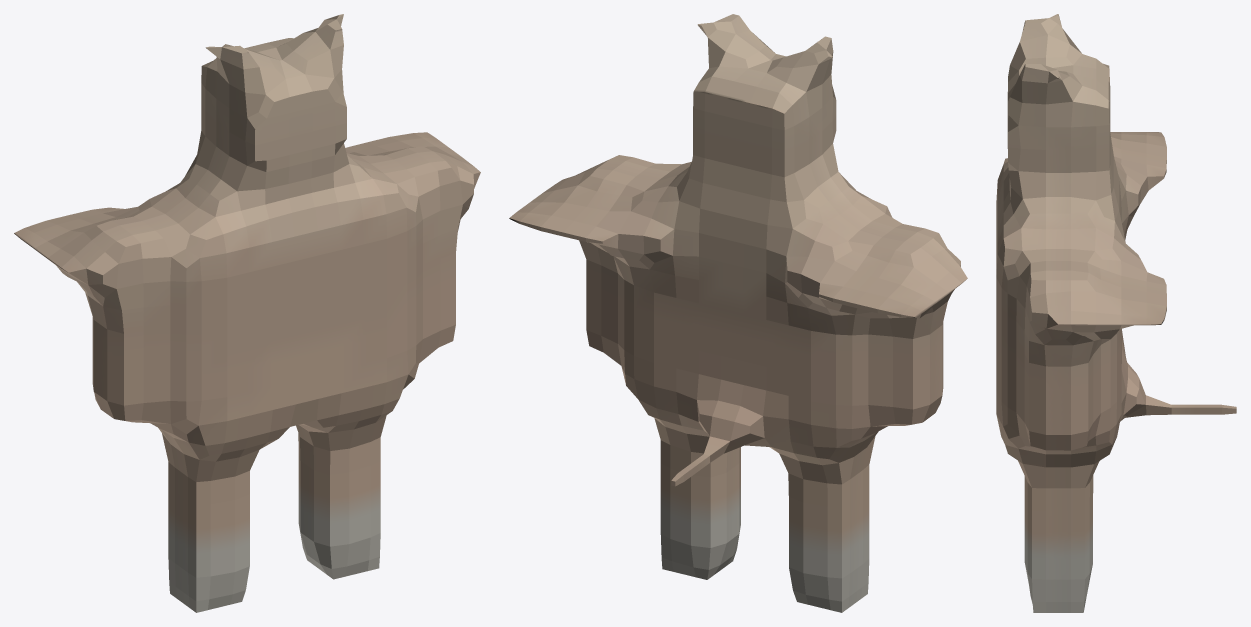
Rendered from gargoyle.glb.
3 views of the same model, side by side, from view 1: azimuth 30°, elevation 25°; view 2: azimuth 150°, elevation 25°; view 3: azimuth 270°, elevation 25° (orthographic). The views are drawn at different scales.
Parts seen in each view (by area): view 1: geometry_0; view 2: geometry_0; view 3: geometry_0.
Part boxes in pixels (x1,y1,x2,y2): geometry_0: (14,14,480,612); geometry_0: (509,14,967,612); geometry_0: (996,14,1236,612).
Size of the model in its own units: 0.7553 by 0.963 by 0.3981.
Materials: 1 (1 with a texture image).
